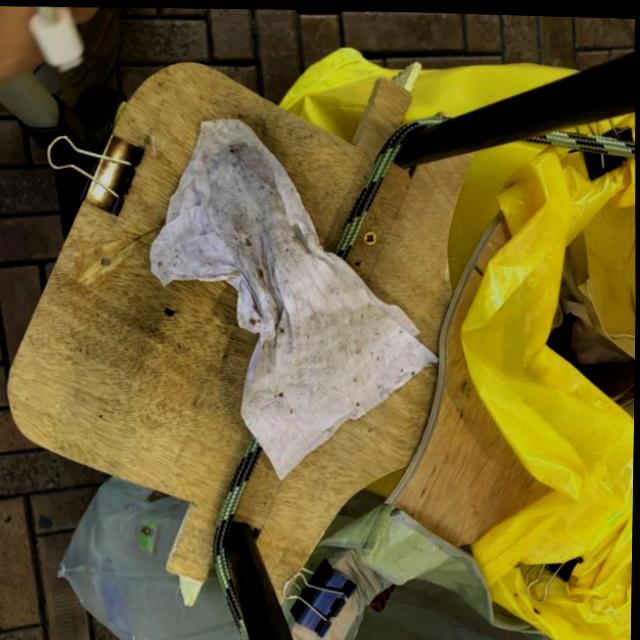Paper: (128, 107, 438, 483)
